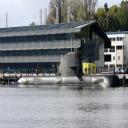submarine: (13, 53, 123, 89)
